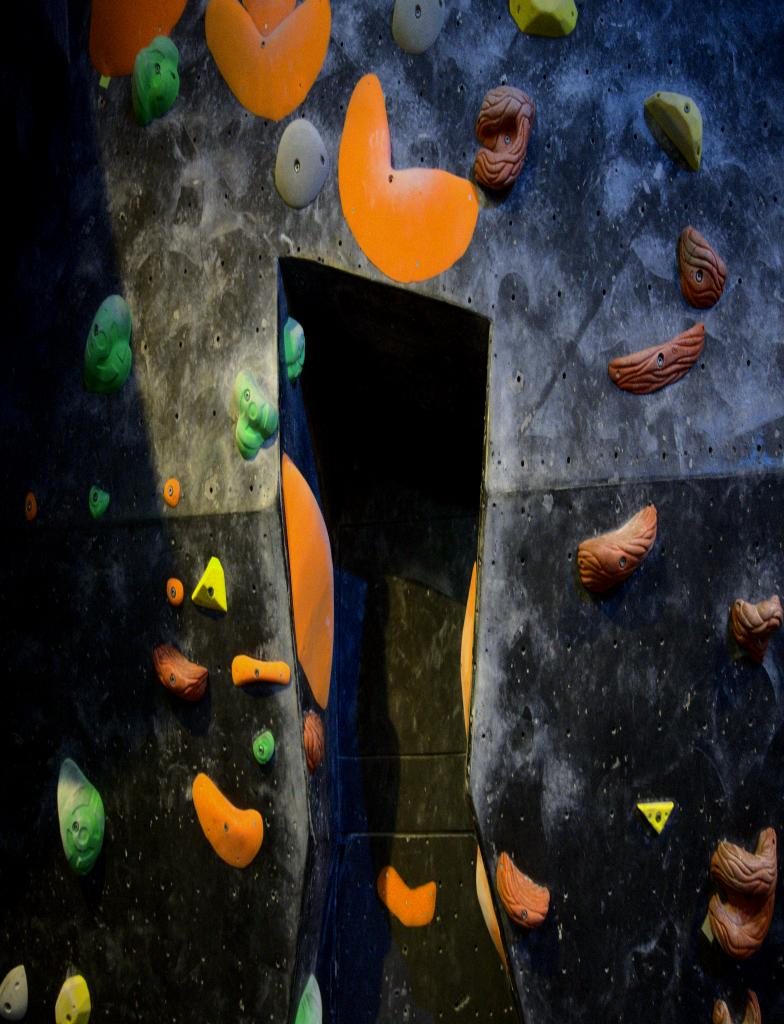crimp: (192, 557, 227, 611)
jib: (496, 853, 549, 928), (638, 801, 674, 833), (167, 577, 184, 606), (164, 478, 179, 507)
jug: (708, 827, 777, 959), (475, 86, 535, 191), (677, 226, 727, 308), (732, 596, 784, 663)
ledge: (339, 75, 478, 282), (577, 504, 657, 592), (608, 324, 704, 393), (153, 645, 207, 702), (232, 655, 290, 685)
sidepull: (282, 455, 333, 708), (57, 758, 104, 875)
sloper: (275, 119, 329, 208), (83, 295, 131, 393), (234, 371, 278, 459)
tape: (99, 76, 110, 88)
